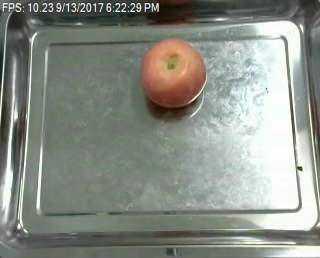Apple: (136, 36, 210, 110)
